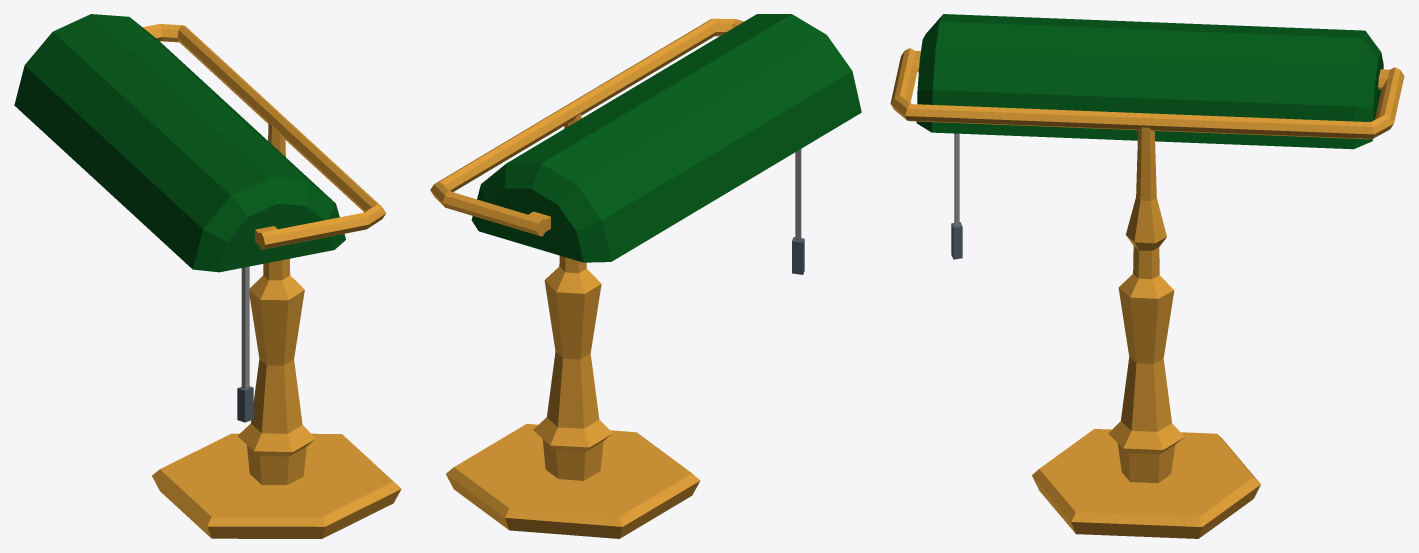
Rendered from lamp.fbx.
3 renders of one model, left to right at view 1: azimuth 30°, elevation 25°; view 2: azimuth 150°, elevation 25°; view 3: azimuth 270°, elevation 25°, orthographic. The views are drawn at different scales.
Parts seen in each view (by area): view 1: lamp; view 2: lamp; view 3: lamp.
Boxes of the visible parts, x1,y1,x2,y2 form: lamp: [14, 14, 401, 538]; lamp: [430, 14, 861, 538]; lamp: [890, 14, 1404, 538].
Size of the model in its own units: 24.21 by 34.67 by 38.52.
